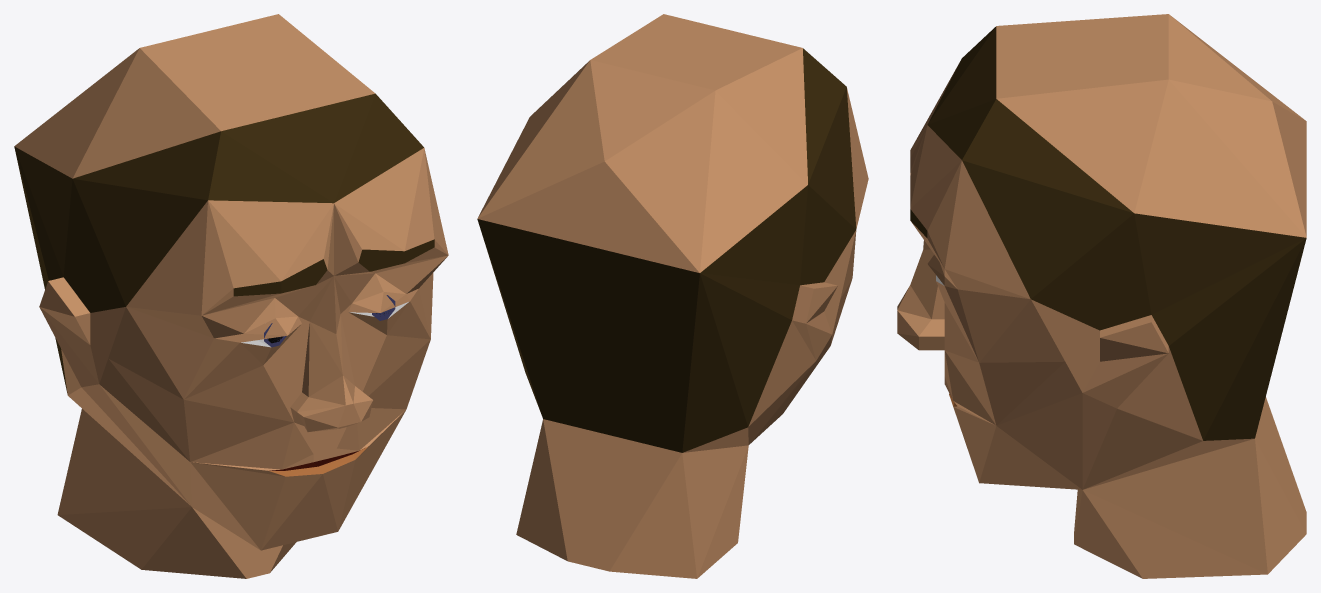
Rendered from model_59_idk_head.obj.
3 views of the same model, side by side, from view 1: azimuth 30°, elevation 25°; view 2: azimuth 150°, elevation 25°; view 3: azimuth 270°, elevation 25° (orthographic). The views are drawn at different scales.
Parts seen in each view (by area): view 1: 59; view 2: 59; view 3: 59.
Part boxes in pixels (x1,y1,x2,y2): 59: (14,14,448,578); 59: (477,14,868,578); 59: (897,14,1306,578).
Size of the model in its own units: 88 by 126 by 95.
